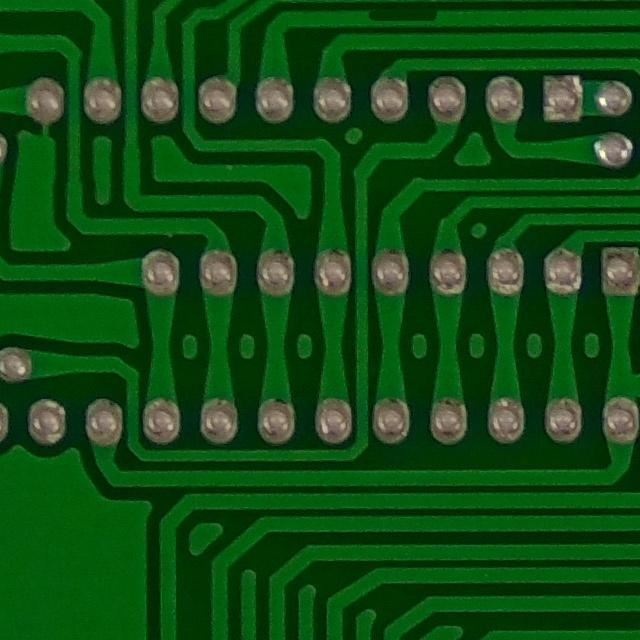mouse_bite: (359, 3, 453, 33)
